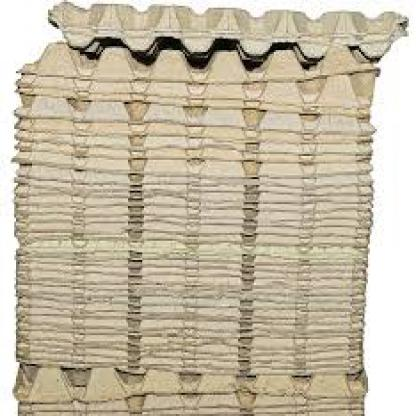CARDBOARD: (9, 41, 375, 414), (45, 0, 407, 60), (14, 40, 375, 83), (11, 362, 364, 399)
